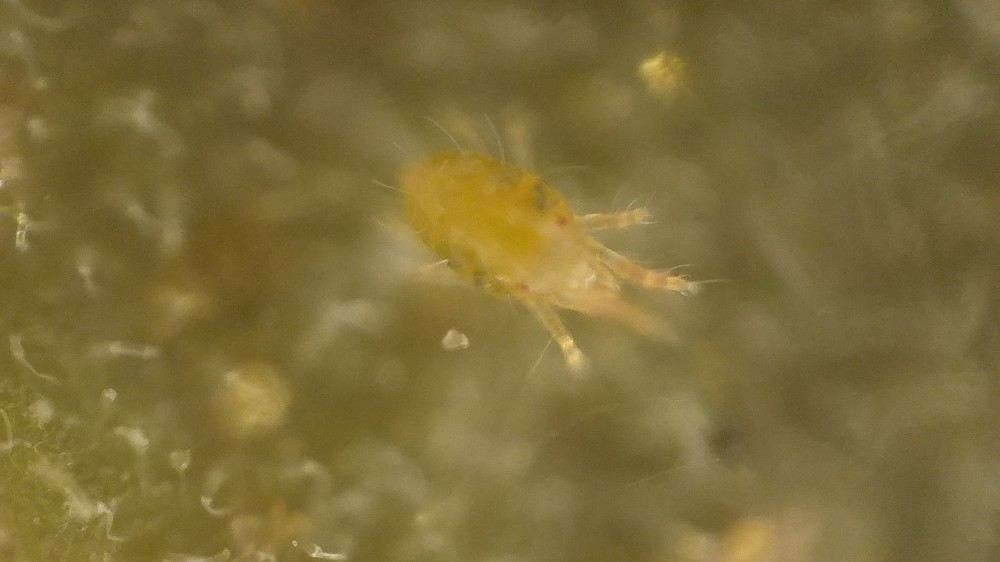Aracnido Rojo: (362, 106, 727, 392)
